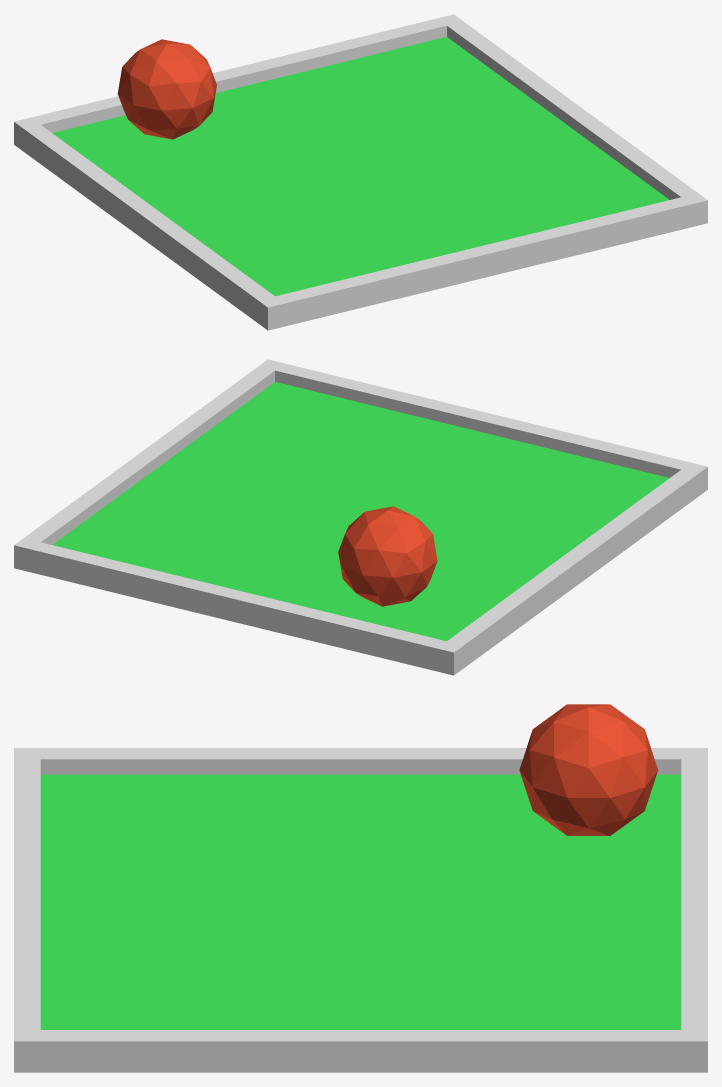
The model's file is location-3.glb.
3 views of the same model, one above another, from view 1: azimuth 30°, elevation 25°; view 2: azimuth 150°, elevation 25°; view 3: azimuth 270°, elevation 25° (orthographic). The views are drawn at different scales.
Parts seen in each view (by area): view 1: Cube, Icosphere; view 2: Cube, Icosphere; view 3: Cube, Icosphere.
Part boxes in pixels (x1,y1,x2,y2): Cube: [14, 14, 707, 330]; Icosphere: [117, 39, 216, 139]; Cube: [14, 359, 707, 675]; Icosphere: [338, 506, 437, 606]; Cube: [14, 748, 707, 1072]; Icosphere: [519, 704, 657, 835].
Size of the model in its own units: 10 by 2.31 by 10.
